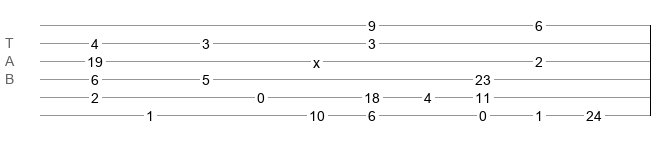0: (257, 90, 265, 100), (479, 108, 487, 118)
1: (146, 108, 154, 118), (535, 108, 543, 118)
10: (309, 108, 325, 118)
11: (475, 90, 491, 100)
18: (364, 90, 380, 100)
19: (87, 54, 103, 64)
2: (91, 90, 99, 100), (535, 54, 543, 64)
23: (475, 72, 491, 82)
24: (586, 108, 602, 118)
3: (202, 36, 210, 46), (368, 36, 376, 46)
4: (91, 36, 99, 46), (424, 90, 432, 100)
5: (202, 72, 210, 82)
6: (91, 72, 99, 82), (368, 108, 376, 118), (535, 18, 543, 28)
9: (368, 18, 376, 28)
x: (313, 55, 320, 63)
